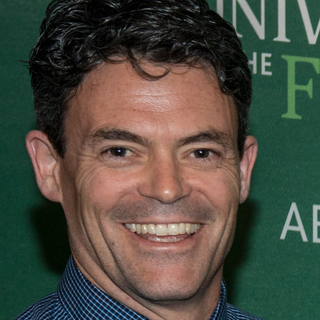eye: (96, 140, 143, 164), (181, 141, 226, 166)
